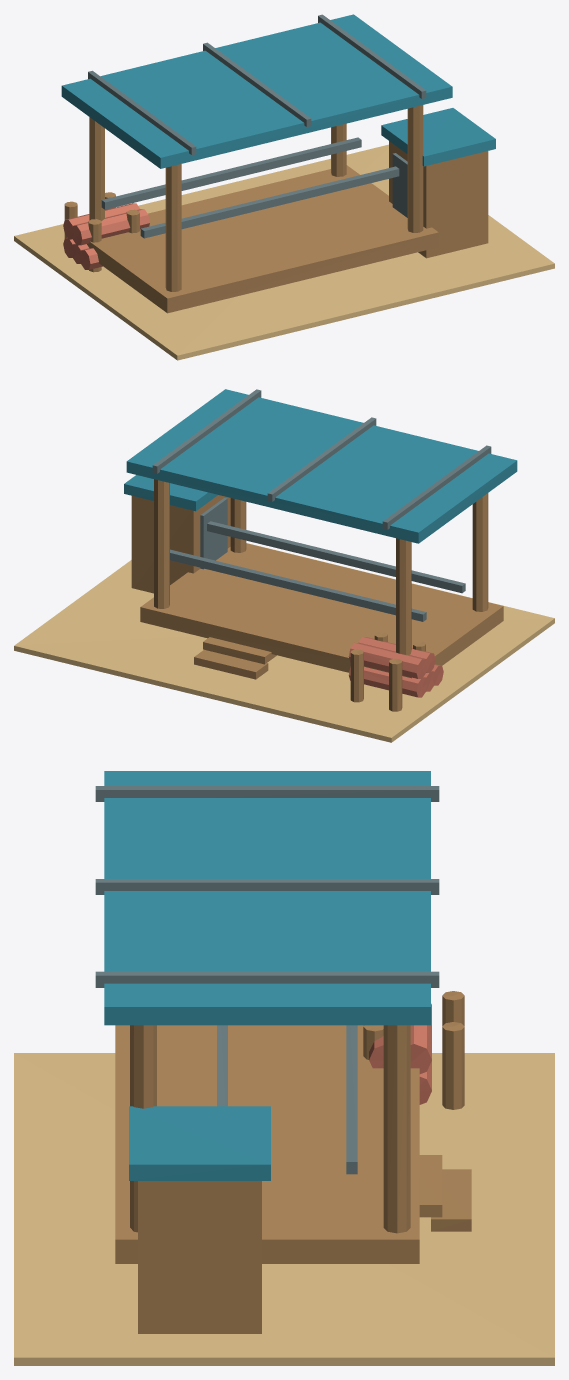
File: logging-camp.source.glb
3 views of the same model, one above another, from view 1: azimuth 30°, elevation 25°; view 2: azimuth 150°, elevation 25°; view 3: azimuth 270°, elevation 25° (orthographic). The views are drawn at different scales.
Parts seen in each view (by area): view 1: logging-camp-roof-main-mesh, logging-camp-dirt-pad-mesh, logging-camp-sorting-deck-mesh, logging-camp-locker-body-mesh, logging-camp-locker-roof-mesh, logging-camp-deck-rail--0.6-mesh, logging-camp-deck-rail-0.55-mesh, logging-camp-shelter-post--2.6-1.25-mesh, logging-camp-shelter-post-1.5-1.25-mesh, logging-camp-shelter-post--2.6--1-mesh, logging-camp-roof-rib-1.4-mesh, logging-camp-roof-rib--0.55-mesh (+5 smaller); view 2: logging-camp-roof-main-mesh, logging-camp-dirt-pad-mesh, logging-camp-sorting-deck-mesh, logging-camp-locker-body-mesh, logging-camp-deck-rail-0.55-mesh, logging-camp-deck-rail--0.6-mesh, logging-camp-shelter-post-1.5--1-mesh, logging-camp-shelter-post--2.6-1.25-mesh, logging-camp-shelter-post--2.6--1-mesh, logging-camp-locker-roof-mesh, logging-camp-stored-log-3-mesh, logging-camp-locker-door-mesh (+10 smaller); view 3: logging-camp-dirt-pad-mesh, logging-camp-roof-main-mesh, logging-camp-sorting-deck-mesh, logging-camp-locker-body-mesh, logging-camp-locker-roof-mesh, logging-camp-shelter-post-1.5--1-mesh, logging-camp-roof-rib-1.4-mesh, logging-camp-roof-rib--2.5-mesh, logging-camp-roof-rib--0.55-mesh, logging-camp-shelter-post-1.5-1.25-mesh, logging-camp-stair-0-mesh, logging-camp-rack-post--2.1--1.5-mesh (+5 smaller).
Boxes of the visible parts, x1,y1,x2,y2 form: logging-camp-roof-main-mesh: (61, 14, 452, 168); logging-camp-dirt-pad-mesh: (14, 144, 554, 360); logging-camp-sorting-deck-mesh: (87, 165, 438, 313); logging-camp-locker-body-mesh: (389, 141, 488, 258); logging-camp-locker-roof-mesh: (381, 108, 495, 166); logging-camp-deck-rail--0.6-mesh: (101, 137, 361, 209); logging-camp-deck-rail-0.55-mesh: (140, 166, 399, 238); logging-camp-shelter-post--2.6-1.25-mesh: (165, 164, 181, 291); logging-camp-shelter-post-1.5-1.25-mesh: (407, 105, 423, 232); logging-camp-shelter-post--2.6--1-mesh: (89, 117, 104, 221); logging-camp-roof-rib-1.4-mesh: (318, 14, 426, 98); logging-camp-roof-rib--0.55-mesh: (203, 42, 311, 126); logging-camp-roof-main-mesh: (126, 389, 517, 543); logging-camp-dirt-pad-mesh: (14, 543, 554, 742); logging-camp-sorting-deck-mesh: (140, 543, 503, 678); logging-camp-locker-body-mesh: (131, 495, 230, 593); logging-camp-deck-rail-0.55-mesh: (207, 521, 465, 593); logging-camp-deck-rail--0.6-mesh: (170, 549, 426, 621); logging-camp-shelter-post-1.5--1-mesh: (154, 479, 169, 608); logging-camp-shelter-post--2.6-1.25-mesh: (472, 493, 488, 611); logging-camp-shelter-post--2.6--1-mesh: (396, 538, 411, 655); logging-camp-locker-roof-mesh: (124, 475, 217, 511); logging-camp-stored-log-3-mesh: (348, 642, 427, 678); logging-camp-locker-door-mesh: (200, 498, 227, 569); logging-camp-dirt-pad-mesh: (14, 1053, 554, 1365); logging-camp-roof-main-mesh: (104, 771, 430, 1025); logging-camp-sorting-deck-mesh: (115, 1025, 419, 1263); logging-camp-locker-body-mesh: (138, 1181, 261, 1333); logging-camp-locker-roof-mesh: (129, 1106, 270, 1180); logging-camp-shelter-post-1.5--1-mesh: (383, 1025, 410, 1233); logging-camp-roof-rib-1.4-mesh: (95, 971, 439, 987); logging-camp-roof-rib--2.5-mesh: (95, 786, 439, 801); logging-camp-roof-rib--0.55-mesh: (95, 879, 439, 894); logging-camp-shelter-post-1.5-1.25-mesh: (130, 1025, 156, 1232); logging-camp-stair-0-mesh: (431, 1169, 471, 1231); logging-camp-rack-post--2.1--1.5-mesh: (442, 1022, 464, 1109).
Bounding box in the file's own units: 6.4 × 3 × 4.8.
